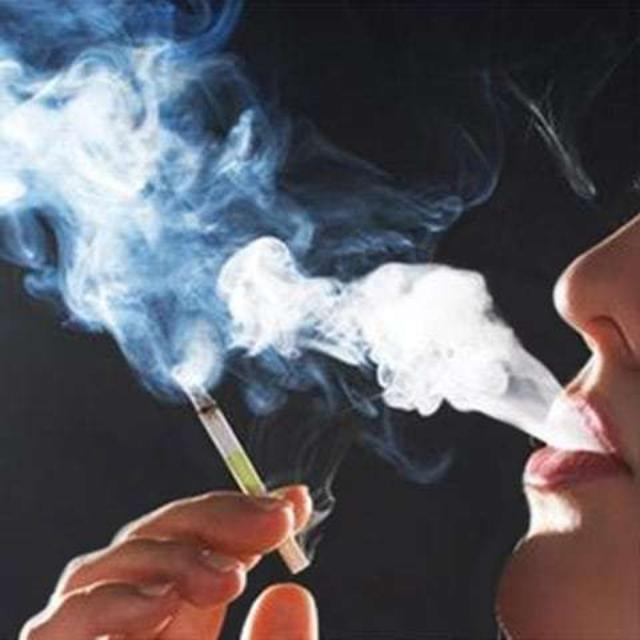rokok: (172, 365, 324, 577)
